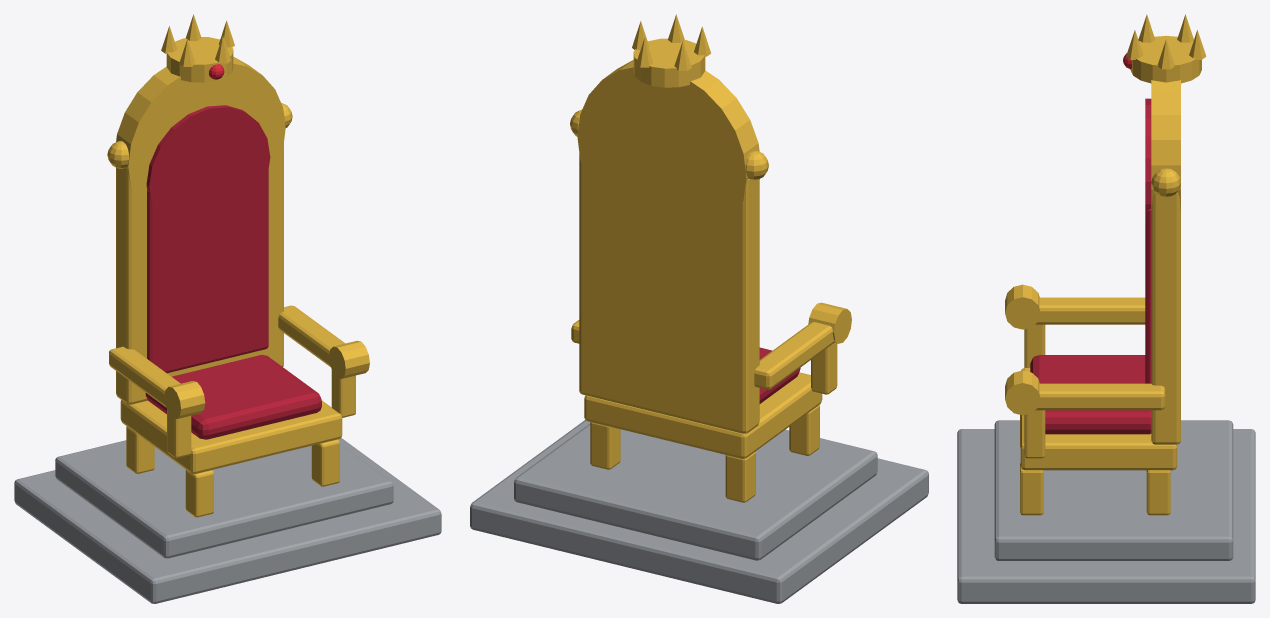
Rendered from throne.glb.
3 renders of one model, left to right at view 1: azimuth 30°, elevation 25°; view 2: azimuth 150°, elevation 25°; view 3: azimuth 270°, elevation 25°, orthographic. The views are drawn at different scales.
Visible parts, largest first — view 1: Throne; view 2: Throne; view 3: Throne.
Part boxes in pixels (x1,y1,x2,y2): Throne: (14,14,441,603); Throne: (470,14,928,603); Throne: (957,14,1255,603).
Size of the model in its own units: 2.4 by 3.73 by 2.
